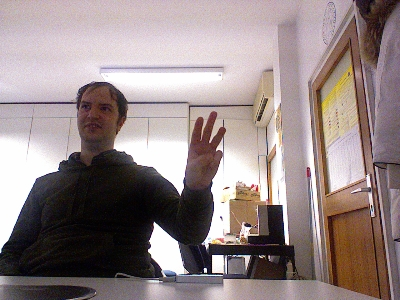三分: (183, 109, 226, 190)
